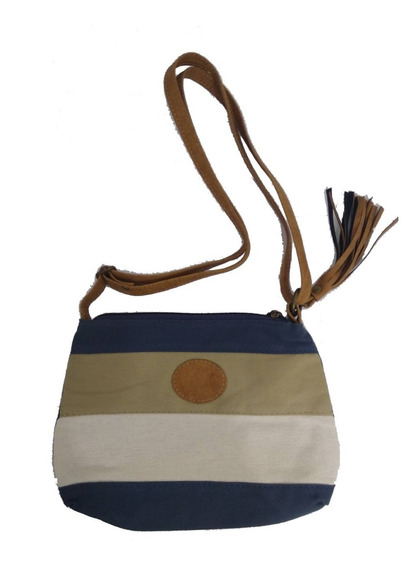cartera: (47, 51, 342, 529)
